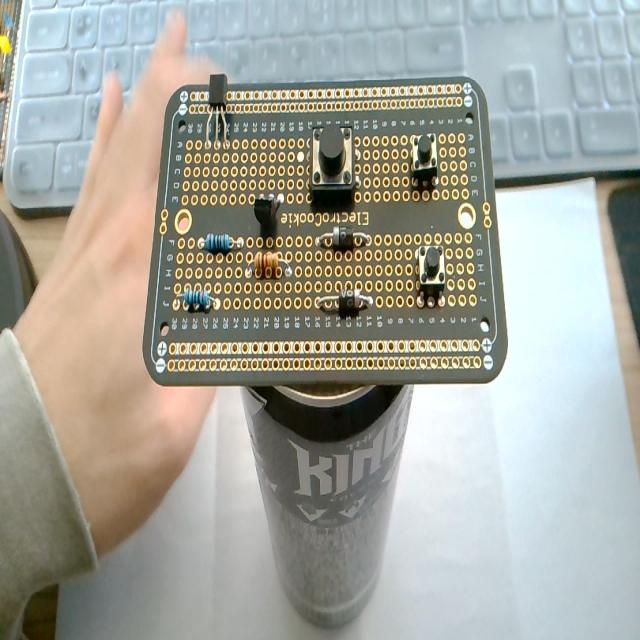diode: (317, 289, 374, 317), (316, 226, 371, 251)
resistor: (173, 278, 220, 310), (250, 252, 288, 282), (198, 233, 243, 255)
switch: (308, 123, 358, 205), (416, 245, 446, 306), (410, 133, 438, 189), (417, 244, 445, 290)
transistor: (206, 74, 230, 148), (248, 187, 288, 230)
